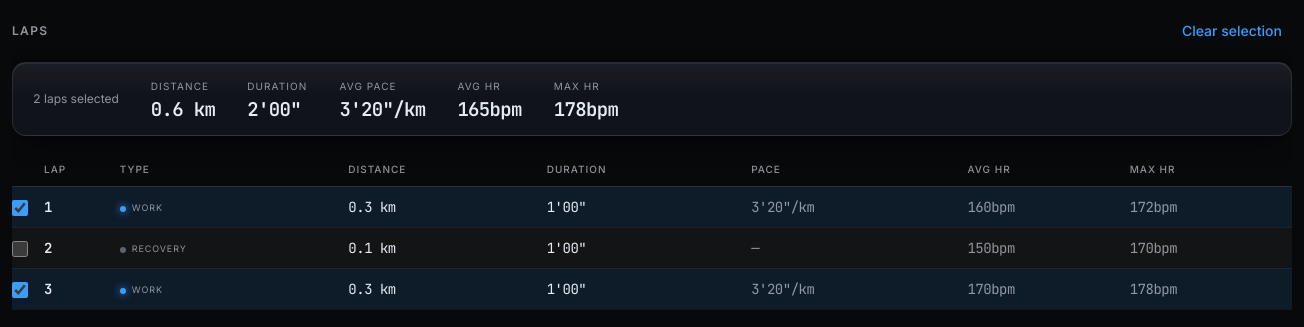
LapAnalysis › T33 — un clic sur la ligne ou sur la case bascule le lap, une seule fois
What coordinates should you click on to do the following:
click the row named "Select lap 2"
I would click on:
 (652, 248)
Its box is [12,227,1292,268].
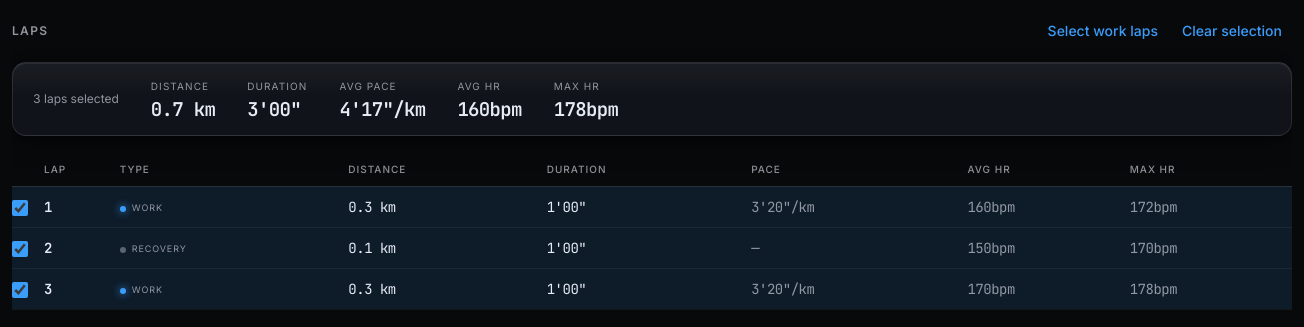
Now the checkbox named "Select lap 2" is checked
Now the text "3 laps selected" is shown, box [33,90,119,106]
What coordinates should you click on to do the following:
click the checkbox named "Select lap 2"
I would click on:
 (20, 249)
Its box is [12,241,28,257].
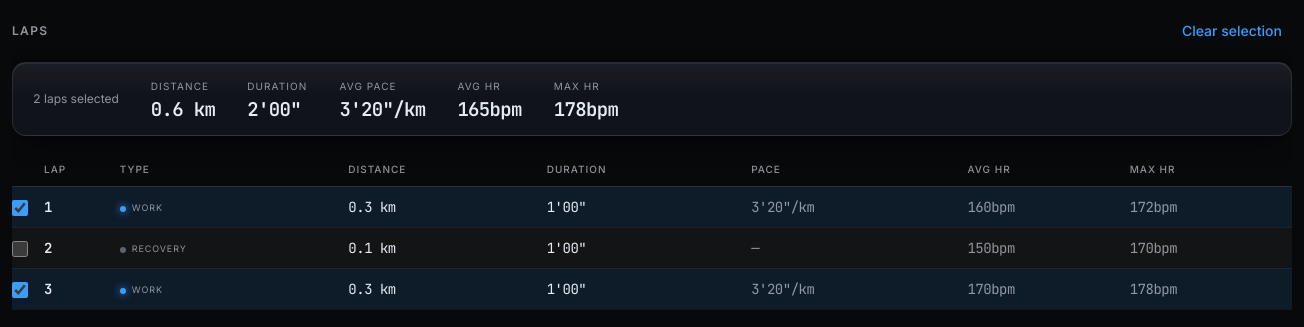
Now the checkbox named "Select lap 2" is not checked, box [12,241,28,257]
Now the text "2 laps selected" is shown, box [33,90,119,106]
